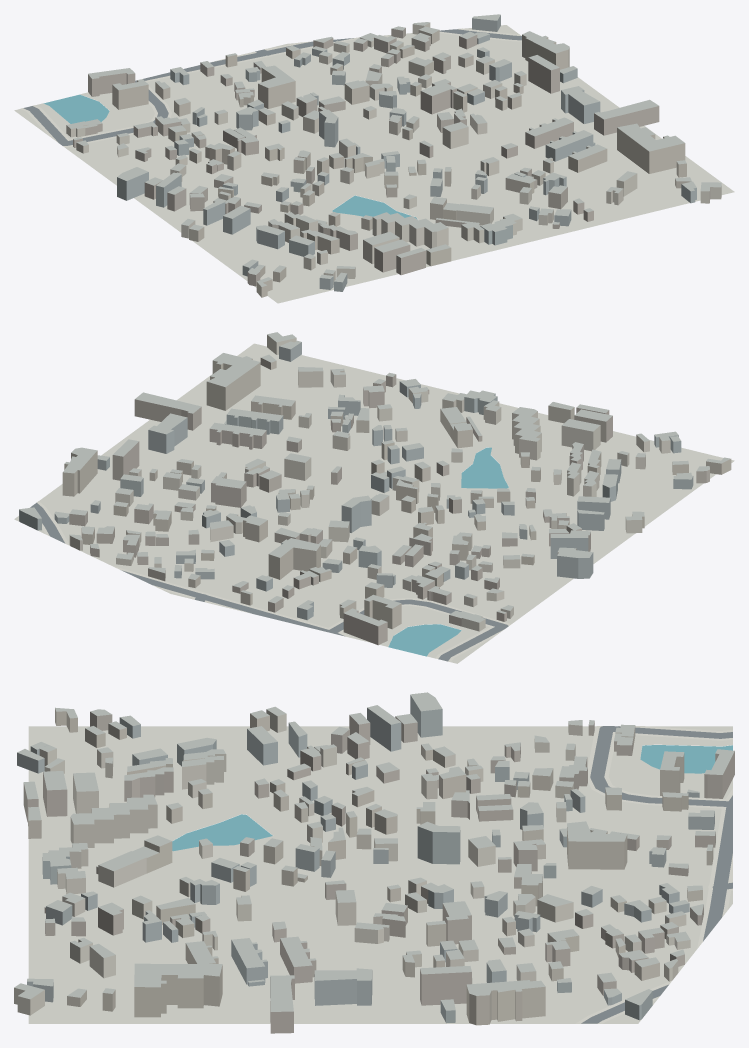
3 renders of one model, top to bottom at view 1: azimuth 30°, elevation 25°; view 2: azimuth 150°, elevation 25°; view 3: azimuth 270°, elevation 25°, orthographic. The views are drawn at different scales.
Parts seen in each view (by area): view 1: city; view 2: city; view 3: city.
Boxes of the visible parts, x1,y1,x2,y2 form: city: (14,14,734,303); city: (14,332,734,663); city: (14,692,734,1033).
Size of the model in its own units: 529 by 25.28 by 512.
